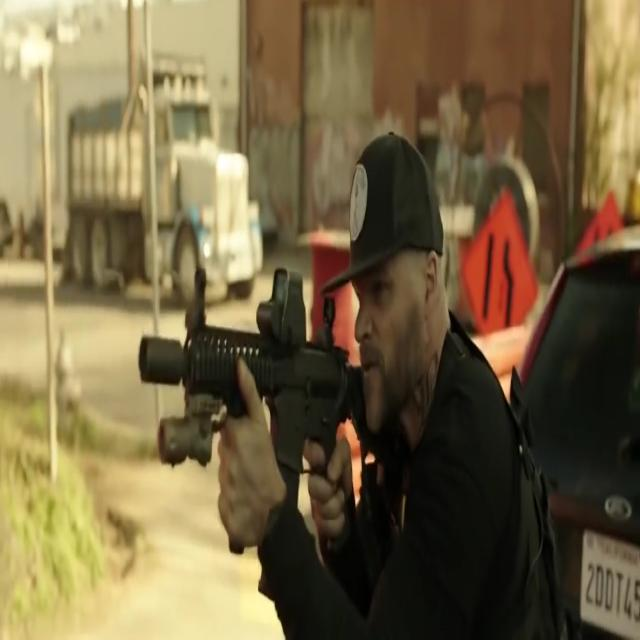Weapon: (108, 275, 368, 515)
